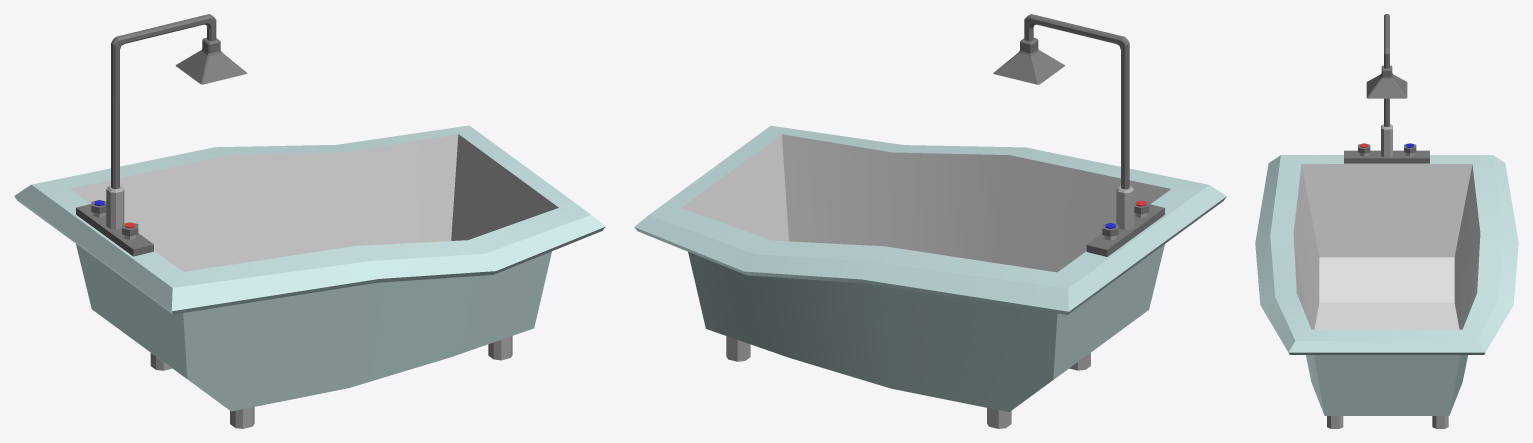
The model's file is Bathtub.fbx.
The picture shows the model from 3 angles, left to right: view 1: azimuth 30°, elevation 25°; view 2: azimuth 150°, elevation 25°; view 3: azimuth 270°, elevation 25°; orthographic projection. The views are drawn at different scales.
Parts seen in each view (by area): view 1: Tub, Tap; view 2: Tub, Tap; view 3: Tub, Tap.
Boxes of the visible parts, left/top/right/bottom form: Tub: left=14, top=125, right=605, bottom=428; Tap: left=76, top=14, right=247, bottom=256; Tub: left=634, top=125, right=1226, bottom=428; Tap: left=993, top=14, right=1164, bottom=256; Tub: left=1255, top=155, right=1518, bottom=428; Tap: left=1344, top=14, right=1429, bottom=163.
Bounding box in the file's own units: 4.5 × 3.63 × 3.06.
